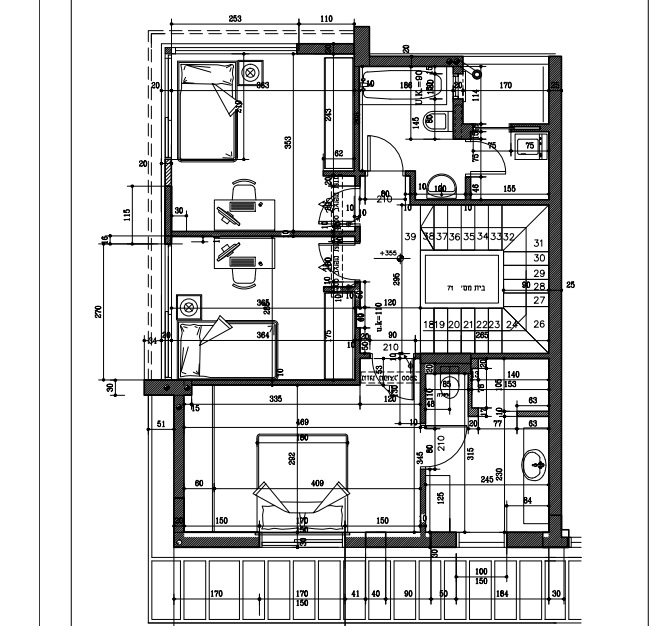door: (307, 188, 352, 228), (311, 238, 351, 282), (433, 421, 470, 466), (365, 132, 405, 168), (475, 137, 509, 178)
wall: (548, 53, 563, 512), (174, 395, 185, 496), (355, 56, 452, 65), (182, 537, 259, 547), (352, 25, 369, 68), (145, 379, 190, 393)
window: (455, 528, 507, 551)
